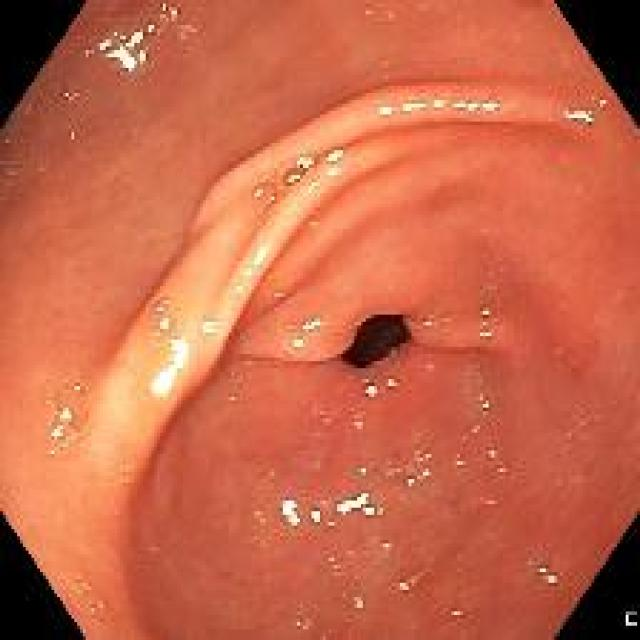bubbles: (456, 356, 492, 445), (51, 373, 94, 429), (0, 136, 30, 204), (144, 294, 181, 342), (246, 172, 281, 211), (115, 454, 140, 492), (278, 163, 305, 186), (87, 600, 107, 622), (72, 574, 91, 597), (382, 373, 399, 396), (384, 346, 402, 362), (584, 106, 597, 126), (227, 392, 238, 405)
contrast: (340, 310, 416, 373)
specularity: (86, 24, 160, 78), (376, 97, 499, 116), (151, 339, 189, 398), (233, 246, 268, 293), (333, 487, 384, 519), (562, 102, 597, 128), (324, 143, 344, 182), (278, 495, 301, 528), (532, 561, 559, 588), (155, 2, 179, 30), (416, 452, 436, 479), (473, 324, 496, 346), (48, 423, 66, 444), (298, 316, 322, 331), (294, 151, 315, 168), (478, 301, 493, 322), (363, 379, 377, 401), (402, 471, 417, 490), (288, 333, 305, 347), (309, 507, 322, 525), (59, 405, 71, 422), (478, 395, 492, 408), (158, 318, 171, 330), (152, 303, 165, 315), (70, 382, 83, 392), (424, 316, 434, 329), (290, 172, 300, 183), (359, 468, 370, 477), (398, 581, 408, 590), (354, 600, 363, 610), (601, 95, 608, 107), (254, 188, 262, 197), (352, 420, 360, 429), (455, 460, 464, 468), (309, 179, 319, 186), (453, 609, 460, 618), (63, 88, 70, 97), (489, 449, 496, 458), (383, 541, 390, 548), (252, 511, 258, 519), (295, 619, 301, 626), (499, 465, 505, 472), (386, 378, 392, 385), (269, 198, 274, 204)
